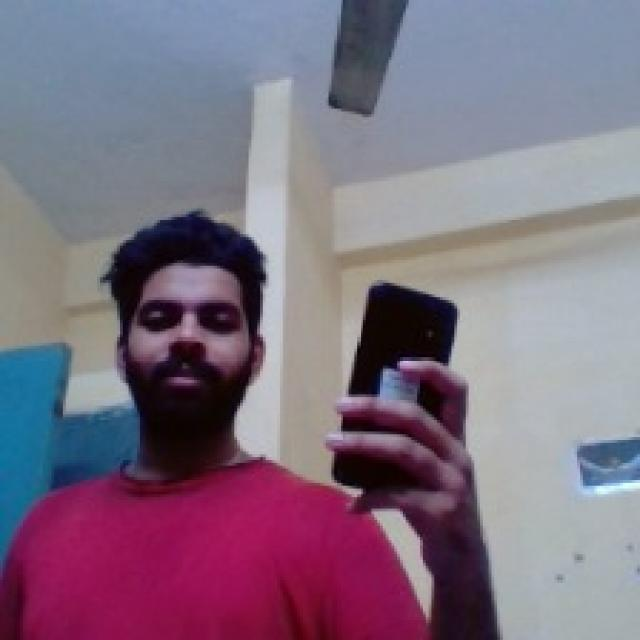Phone: (328, 280, 464, 496)
